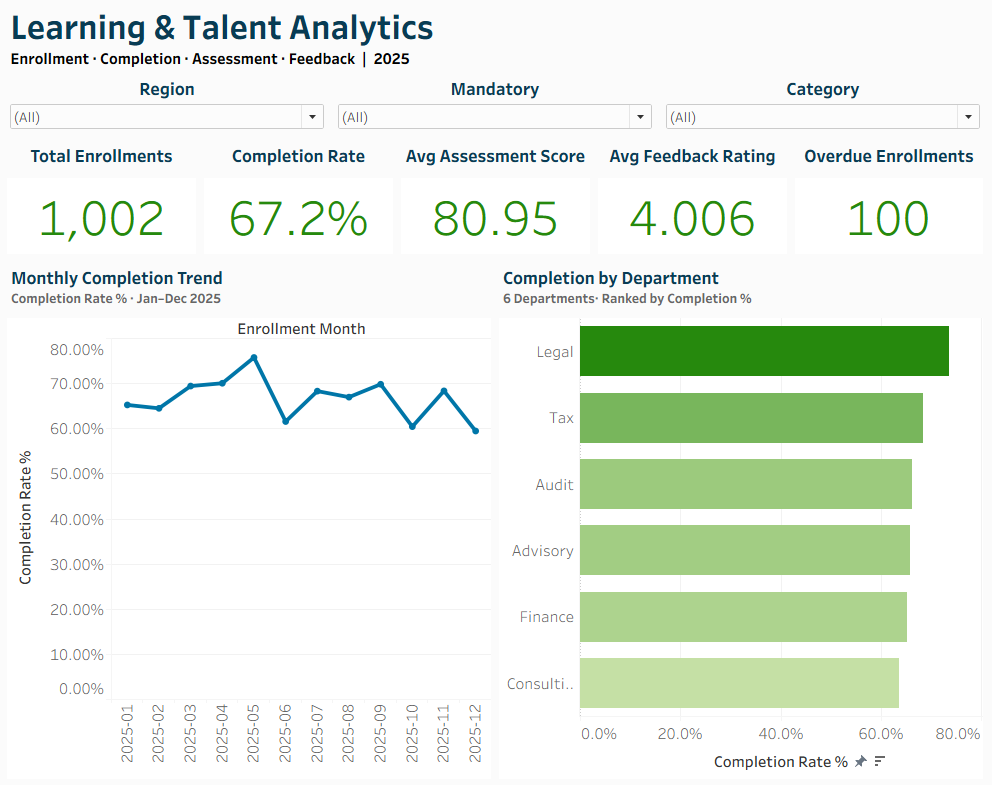

Layout of this report page (visuals, bound fields, positions):
{"tool":"tableau","page":{"name":"1 - Executive Summary","canvas":[1000,800],"ordinal":0},"visuals":[{"type":"text","box":[8,8,984,74]},{"type":"filter","title":"KPI - Total Enrollments","param":"[federated.15vr0xh1iu9k4k1dwr2az0vmulpq].[none:Region:nk]","box":[8,82,328,63]},{"type":"filter","title":"KPI - Total Enrollments","param":"[federated.15vr0xh1iu9k4k1dwr2az0vmulpq].[none:Mandatory:nk]","box":[336,82,328,63]},{"type":"filter","title":"KPI - Total Enrollments","param":"[federated.15vr0xh1iu9k4k1dwr2az0vmulpq].[none:Course_Category:nk]","box":[664,82,328,63]},{"type":"worksheet","title":"KPI - Total Enrollments","mark":"Text","box":[8,145,197,122]},{"type":"worksheet","title":"KPI - Complete rating","mark":"Automatic","box":[205,145,197,122]},{"type":"worksheet","title":"KPI - Avg Assement score","mark":"Automatic","box":[402,145,197,122]},{"type":"worksheet","title":"KPI - Avg feedback","mark":"Automatic","box":[599,145,197,122]},{"type":"worksheet","title":"KPI - Overdue enrollment","mark":"Automatic","box":[796,145,196,122]},{"type":"worksheet","title":"Monthly Completion Trend ","mark":"Line","rows":["Calculation_0669105712525312"],"cols":["Enrollment_Month"],"box":[8,267,492,525]},{"type":"worksheet","title":"Completion by Department","mark":"Automatic","rows":["Department"],"cols":["Calculation_0669105712525312"],"box":[500,267,492,525]}]}

Visuals, with their boxes in screenshot pixels (x1, y1, x2, y2), scaled from the page's 1000x800 canvas onto the 992x785 screenshot:
text: 8 8 984 80
"KPI - Total Enrollments" filter: 8 80 333 142
"KPI - Total Enrollments" filter: 333 80 659 142
"KPI - Total Enrollments" filter: 659 80 984 142
"KPI - Total Enrollments" worksheet (Text marks): 8 142 203 262
"KPI - Complete rating" worksheet: 203 142 399 262
"KPI - Avg Assement score" worksheet: 399 142 594 262
"KPI - Avg feedback" worksheet: 594 142 790 262
"KPI - Overdue enrollment" worksheet: 790 142 984 262
"Monthly Completion Trend " worksheet (Line marks): 8 262 496 777
"Completion by Department" worksheet: 496 262 984 777
